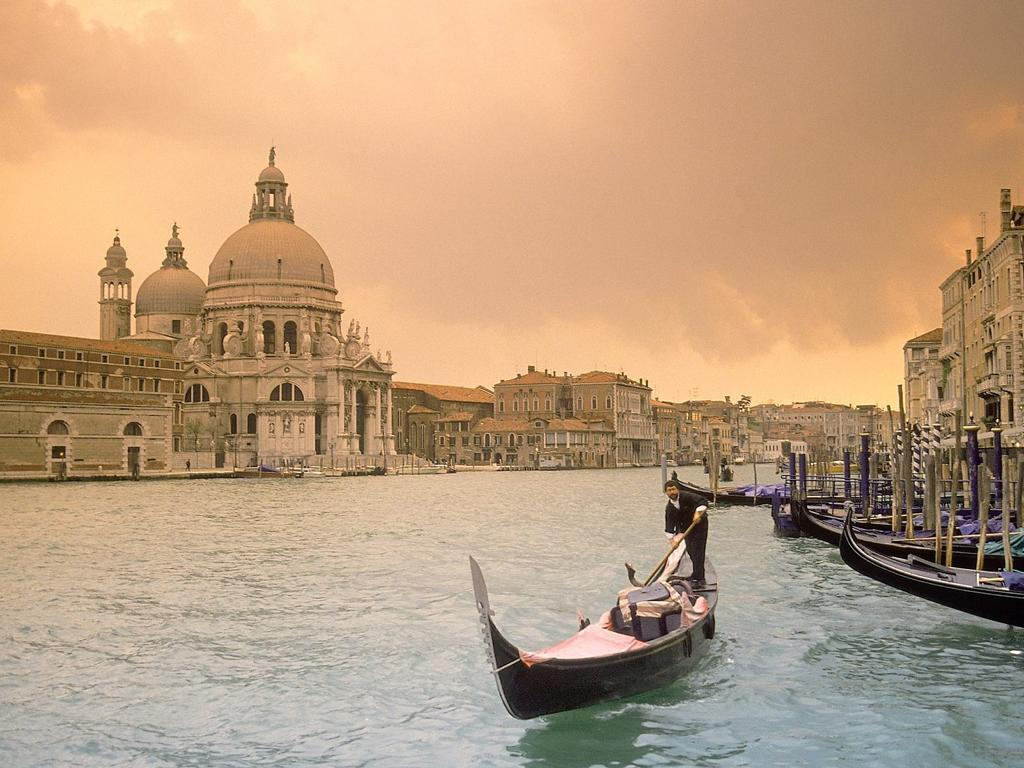face: (667, 487, 678, 499)
